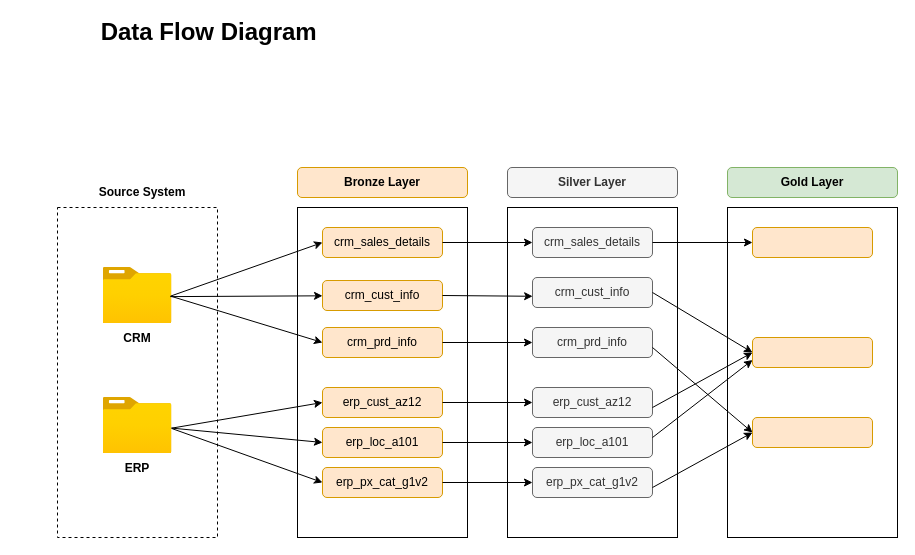
This 915x555 diagram has some shape labels left out. The centre of each missing label's shape, as x and y in pixels:
"dim_customer" belongs at pixel 812 352.
"dim_product" belongs at pixel 812 432.
"fact_sales" belongs at pixel 812 242.
